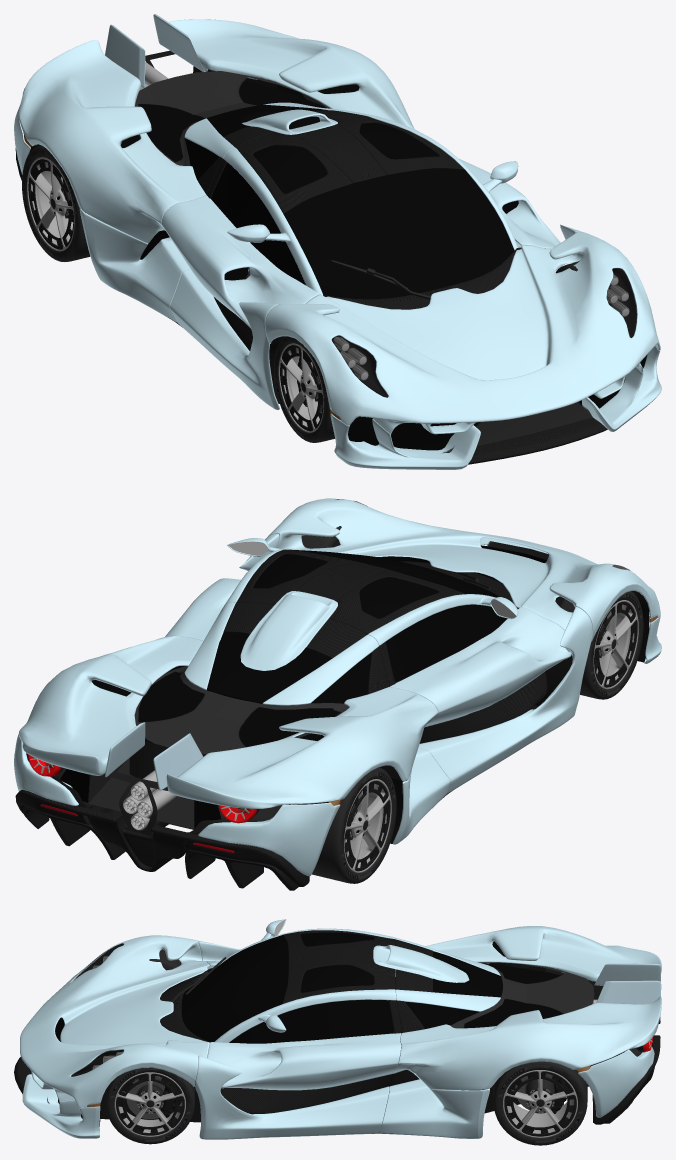
The model's file is hennessey_blackbird.glb.
The picture shows the model from 3 angles, top to bottom: view 1: azimuth 30°, elevation 25°; view 2: azimuth 150°, elevation 25°; view 3: azimuth 270°, elevation 25°; orthographic projection. The views are drawn at different scales.
Visible parts, largest first — view 1: Cube, Cube.002, Cube.001, Plane.003, Plane, polySurface71_Hennessey_VenomF5_2020_Wheel1A_3D_3DWheel1A_Ma (×2), Cube.008, Cube.003, Circle.009, Circle.006, Cube.007, Circle.011 (+1 smaller); view 2: Cube, Cube.001, Cube.002, Plane, Cube.004, Plane.003, polySurface71_Hennessey_VenomF5_2020_Wheel1A_3D_3DWheel1A_Ma (×2), Plane.001, Cube.005, Cube.003, Circle.009, Circle.006 (+6 smaller); view 3: Cube, Cube.002, Cube.001, polySurface71_Hennessey_VenomF5_2020_Wheel1A_3D_3DWheel1A_Ma (×2), Plane, Cube.003, Plane.003, Circle.009, Circle.006, Circle.011, Circle.008, Cube.010 (+5 smaller).
Boxes of the visible parts, x1=… form: Cube: x1=14, y1=19, x2=661, y2=469; Cube.002: x1=185, y1=104, x2=514, y2=299; Cube.001: x1=184, y1=102, x2=521, y2=309; Plane.003: x1=120, y1=80, x2=647, y2=450; Plane: x1=135, y1=50, x2=592, y2=453; polySurface71_Hennessey_VenomF5_2020_Wheel1A_3D_3DWheel1A_Ma (×2): x1=22, y1=145, x2=578, y2=442; Cube.008: x1=332, y1=268, x2=637, y2=397; Cube.003: x1=105, y1=14, x2=204, y2=87; Circle.009: x1=27, y1=157, x2=74, y2=251; Circle.006: x1=278, y1=343, x2=323, y2=432; Cube.007: x1=332, y1=268, x2=636, y2=397; Circle.011: x1=28, y1=159, x2=73, y2=249; Cube: x1=14, y1=498, x2=661, y2=876; Cube.001: x1=184, y1=538, x2=519, y2=705; Cube.002: x1=206, y1=549, x2=507, y2=703; Plane: x1=26, y1=541, x2=548, y2=841; Cube.004: x1=15, y1=789, x2=309, y2=886; Plane.003: x1=60, y1=545, x2=649, y2=828; polySurface71_Hennessey_VenomF5_2020_Wheel1A_3D_3DWheel1A_Ma (×2): x1=301, y1=526, x2=643, y2=883; Plane.001: x1=88, y1=740, x2=204, y2=828; Cube.005: x1=22, y1=806, x2=298, y2=890; Cube.003: x1=105, y1=722, x2=203, y2=790; Circle.009: x1=344, y1=779, x2=391, y2=872; Circle.006: x1=593, y1=600, x2=638, y2=689; Cube: x1=14, y1=926, x2=661, y2=1139; Cube.002: x1=181, y1=932, x2=502, y2=1043; Cube.001: x1=160, y1=919, x2=500, y2=1042; polySurface71_Hennessey_VenomF5_2020_Wheel1A_3D_3DWheel1A_Ma (×2): x1=105, y1=949, x2=587, y2=1145; Plane: x1=47, y1=962, x2=643, y2=1103; Cube.003: x1=594, y1=963, x2=661, y2=1004; Plane.003: x1=55, y1=941, x2=591, y2=1118; Circle.009: x1=503, y1=1070, x2=577, y2=1137; Circle.006: x1=114, y1=1072, x2=185, y2=1136; Circle.011: x1=504, y1=1071, x2=576, y2=1136; Circle.008: x1=116, y1=1073, x2=184, y2=1135; Cube.010: x1=99, y1=962, x2=593, y2=1133.
Size of what is drawn, in the model's own units: 2.93 by 1.47 by 6.36.
Materials: 26 (4 with a texture image).
